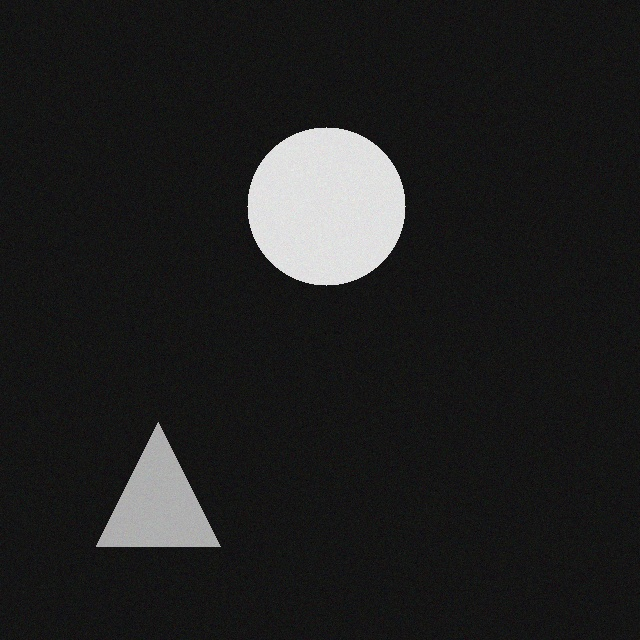circle: (243, 137, 401, 295)
triangle: (92, 432, 216, 556)
